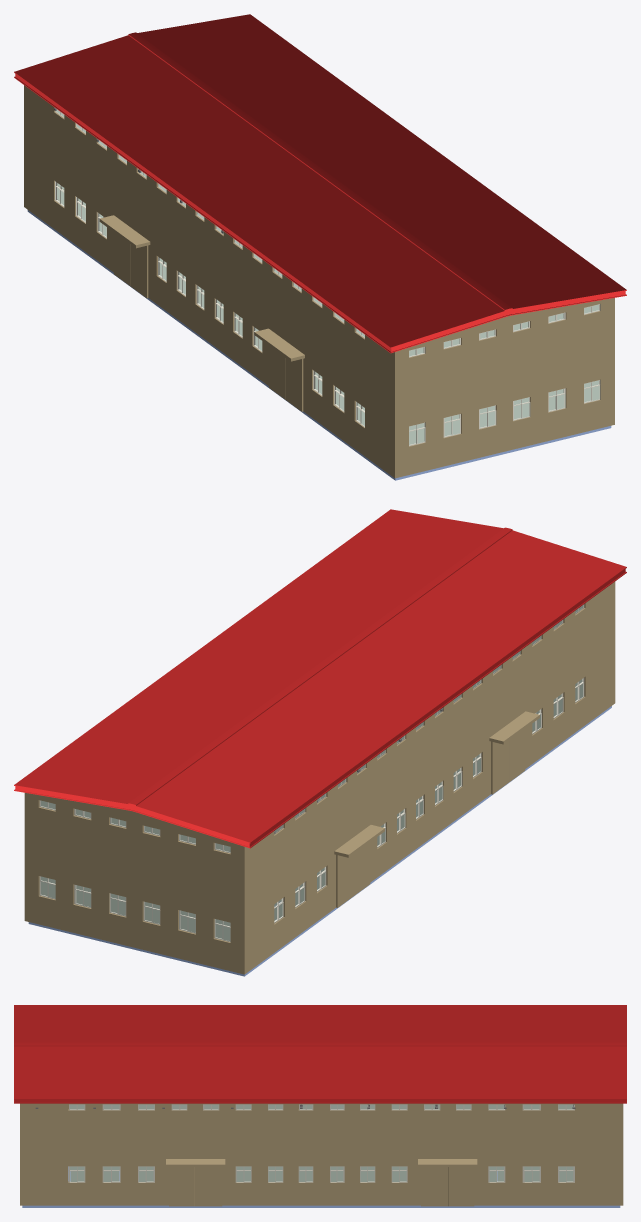
File: 房子(带玻璃).fbx
3 renders of one model, top to bottom at view 1: azimuth 30°, elevation 25°; view 2: azimuth 150°, elevation 25°; view 3: azimuth 270°, elevation 25°, orthographic. The views are drawn at different scales.
Visible parts, largest first — view 1: 屋顶, 墙体, 玻璃, 窗户, 地板; view 2: 屋顶, 墙体, 玻璃, 窗户, 地板; view 3: 屋顶, 墙体, 玻璃, 窗户, 地板.
Boxes of the visible parts, bbox=[...] form: 屋顶: bbox=[14, 14, 626, 353]; 墙体: bbox=[24, 85, 614, 478]; 玻璃: bbox=[56, 109, 599, 444]; 窗户: bbox=[55, 111, 600, 446]; 地板: bbox=[27, 210, 611, 480]; 屋顶: bbox=[14, 509, 626, 848]; 墙体: bbox=[24, 581, 615, 974]; 玻璃: bbox=[41, 605, 583, 940]; 窗户: bbox=[39, 604, 584, 942]; 地板: bbox=[28, 706, 611, 976]; 屋顶: bbox=[14, 1005, 626, 1103]; 墙体: bbox=[20, 1103, 623, 1206]; 玻璃: bbox=[70, 1105, 573, 1181]; 窗户: bbox=[68, 1104, 574, 1182]; 地板: bbox=[22, 1166, 620, 1207].
Size of the model in its own units: 81.97 by 47.02 by 215.
